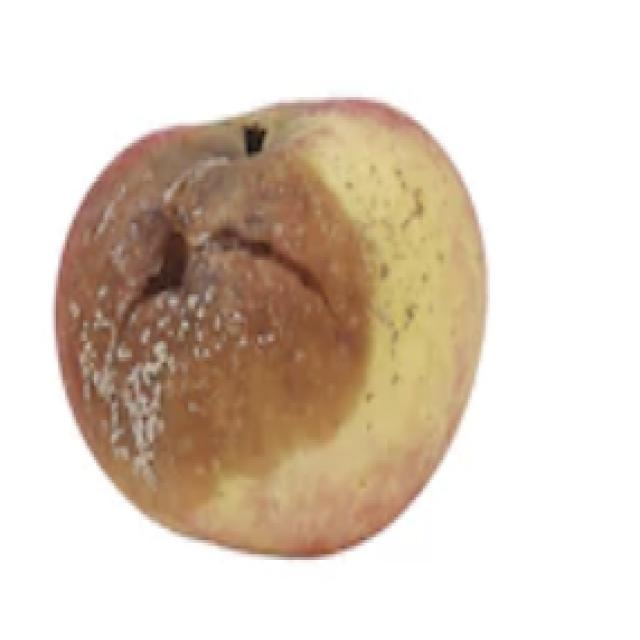rotten_apple: (54, 91, 487, 558)
